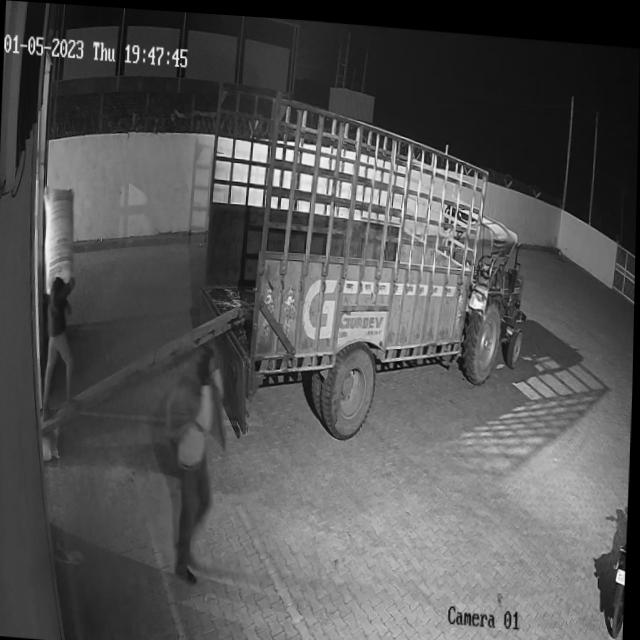sack: (40, 186, 79, 292)
